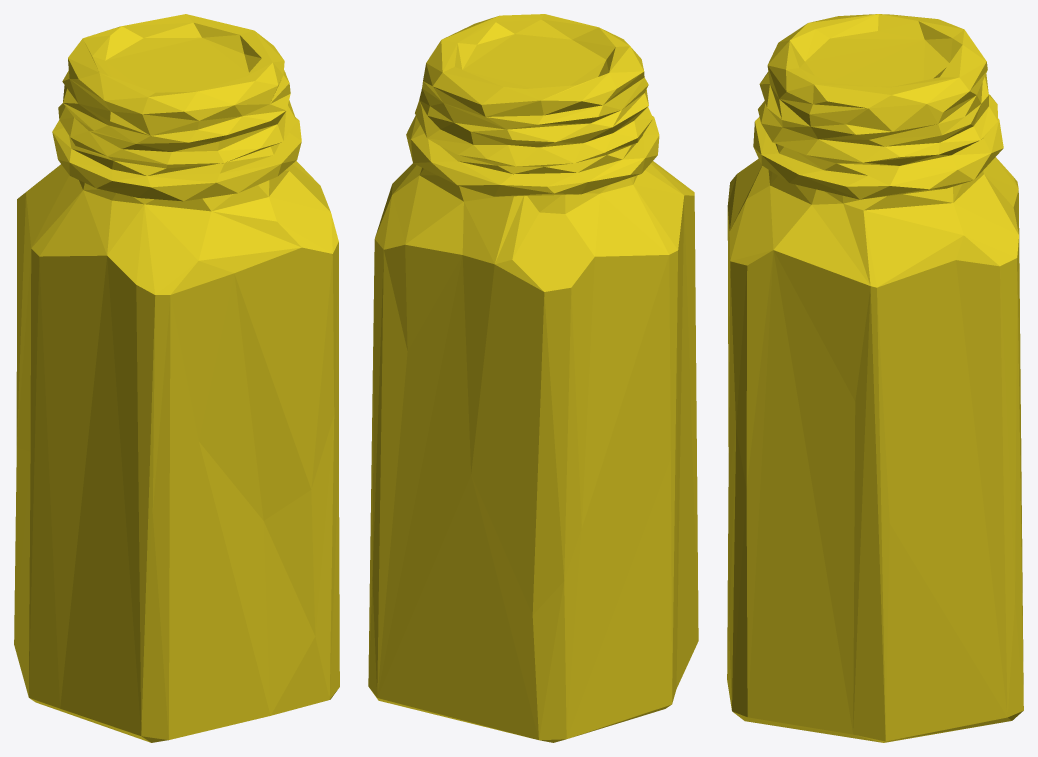
Rendered from bottle_final1_old.dae.
The picture shows the model from 3 angles, left to right: view 1: azimuth 30°, elevation 25°; view 2: azimuth 150°, elevation 25°; view 3: azimuth 270°, elevation 25°; orthographic projection.
Parts seen in each view (by area): view 1: tmpzb3tw74o.ply; view 2: tmpzb3tw74o.ply; view 3: tmpzb3tw74o.ply.
Part boxes in pixels (bbox=[...]): tmpzb3tw74o.ply: bbox=[14, 14, 339, 742]; tmpzb3tw74o.ply: bbox=[368, 14, 698, 742]; tmpzb3tw74o.ply: bbox=[727, 14, 1023, 742].
Bounding box in the file's own units: 0.0942 × 0.0841 × 0.1959.
